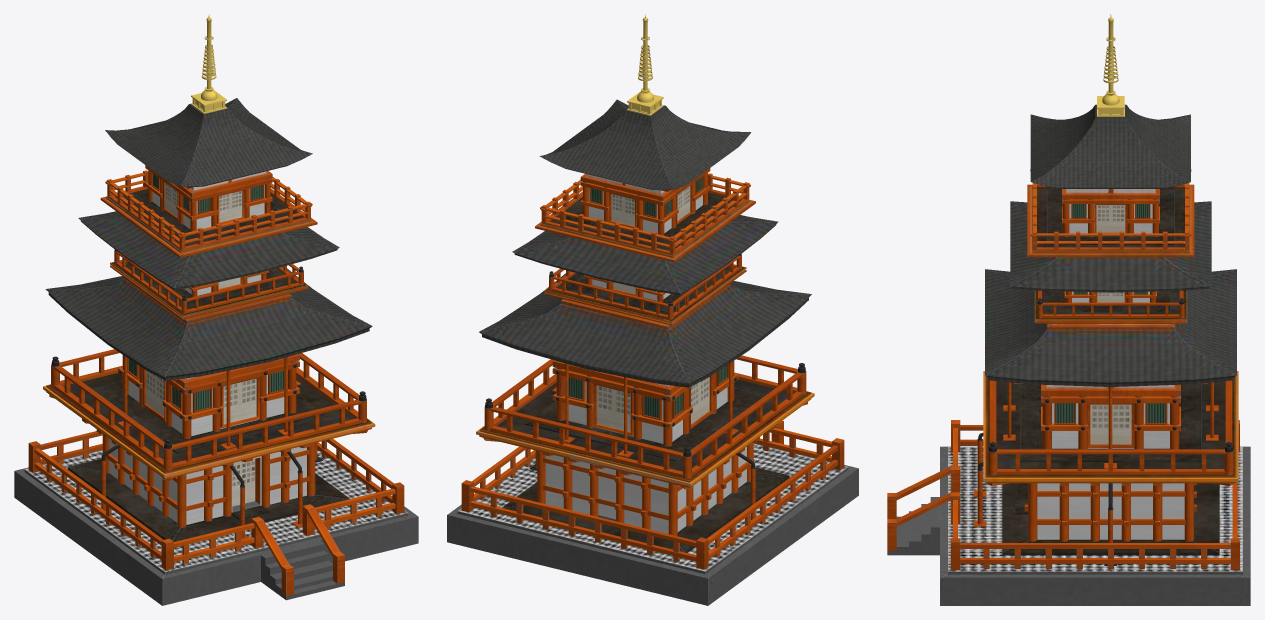
Rendered from templo_opt.glb.
3 views of the same model, side by side, from view 1: azimuth 30°, elevation 25°; view 2: azimuth 150°, elevation 25°; view 3: azimuth 270°, elevation 25° (orthographic). The views are drawn at different scales.
Parts seen in each view (by area): view 1: Japanese_Shrine_Japanese_Shrine_Mat_0; view 2: Japanese_Shrine_Japanese_Shrine_Mat_0; view 3: Japanese_Shrine_Japanese_Shrine_Mat_0.
Boxes of the visible parts, x1,y1,x2,y2 form: Japanese_Shrine_Japanese_Shrine_Mat_0: [14, 14, 418, 605]; Japanese_Shrine_Japanese_Shrine_Mat_0: [447, 14, 858, 605]; Japanese_Shrine_Japanese_Shrine_Mat_0: [887, 14, 1250, 605].
Size of the model in its own units: 6.55e+07 by 1.22e+08 by 7.67e+07.
Materials: 1 (1 with a texture image).
